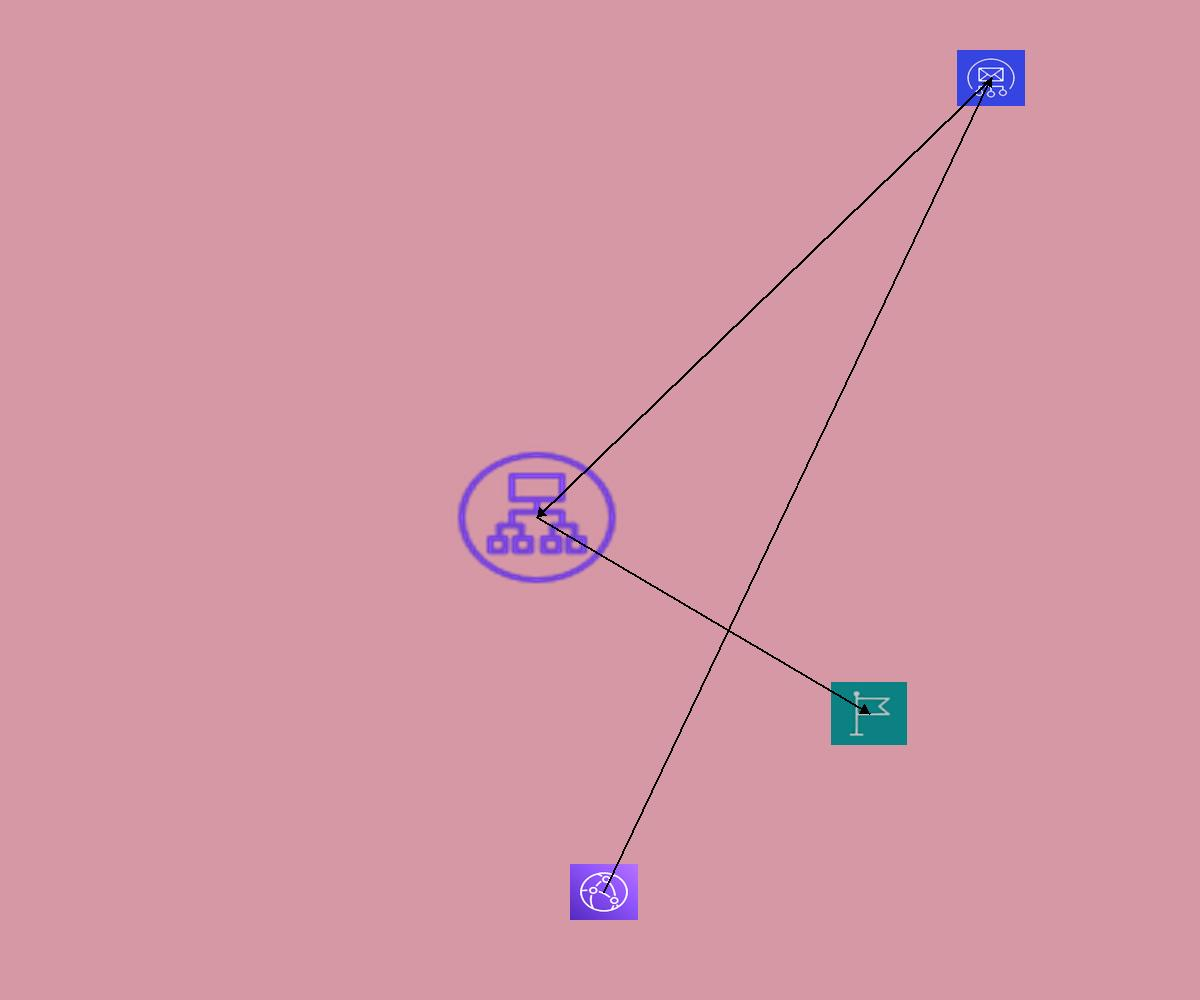AWS-CloudFront: (570, 864, 638, 920)
AWS-Region: (831, 682, 907, 745)
AWS-Res_Elastic-Load-Balancing_Application-Load-Balancer: (451, 446, 623, 589)
AWS-Simple-Email-Service: (957, 50, 1025, 106)
